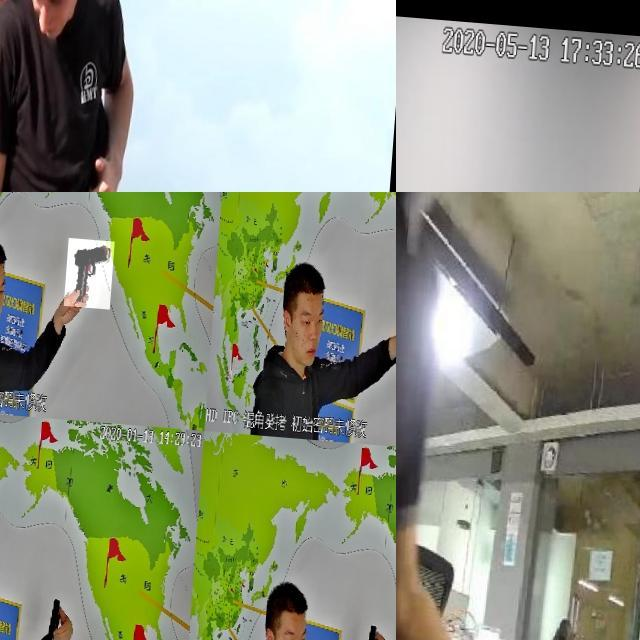gun-knife-thesis - v11 Yolov5 augmented: (67, 235, 117, 306), (47, 598, 78, 640), (357, 618, 392, 640)
